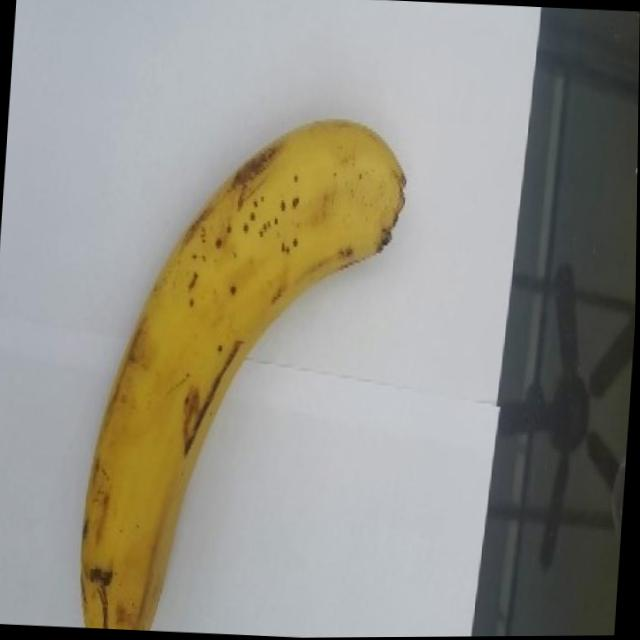Banana: (78, 103, 413, 640)
